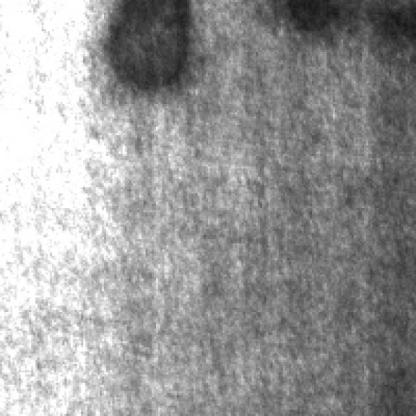patches: (110, 0, 202, 85), (279, 0, 416, 50)
